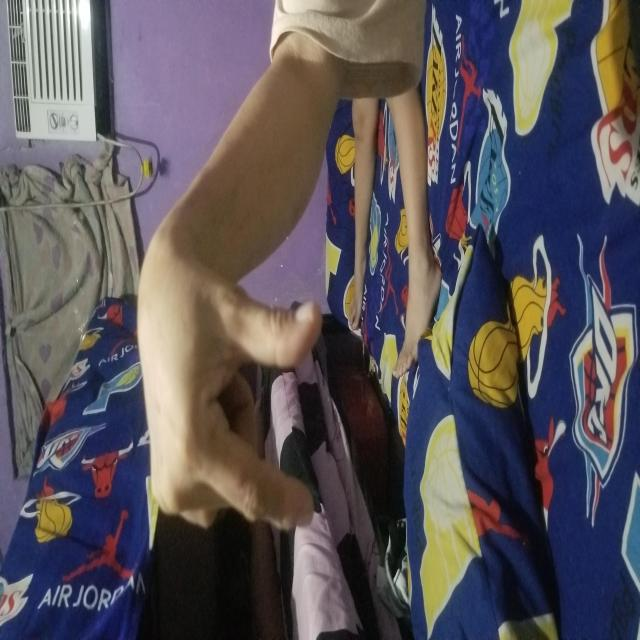Q: (113, 135, 370, 322)
